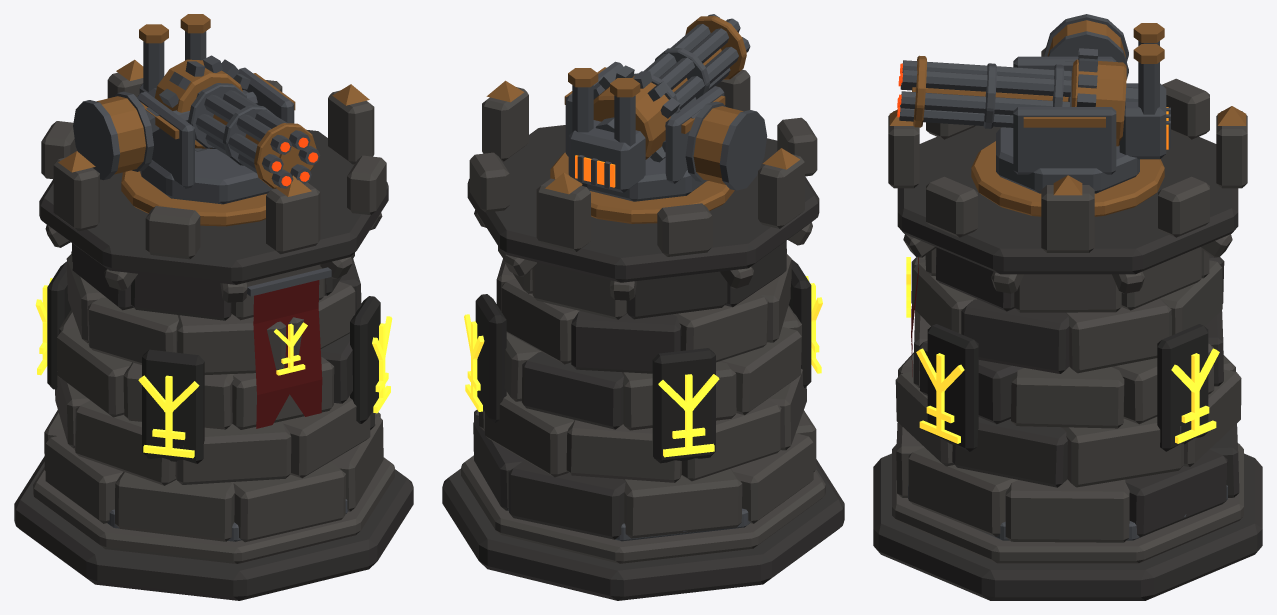
Rendered from cannon_tower_rapid.glb.
The picture shows the model from 3 angles, left to right: view 1: azimuth 30°, elevation 25°; view 2: azimuth 150°, elevation 25°; view 3: azimuth 270°, elevation 25°; orthographic projection. The views are drawn at different scales.
Parts seen in each view (by area): view 1: Plinth, Platform, Plinth_Step, Banner, Block_0_5, Block_0_6, Block_1_5, RuneStone_3, Block_3_5, Block_1_4, Block_3_4, Block_1_6 (+40 smaller); view 2: Platform, Plinth, Plinth_Step, Block_0_2, Block_0_3, Block_3_2, Block_2_2, RuneStone_2, Block_1_2, Block_3_3, Block_1_1, Block_1_3 (+38 smaller); view 3: Platform, Plinth, Plinth_Step, Block_0_0, Block_2_0, Block_3_7, Block_1_0, Cheek_R, Block_0_7, Block_3_0, Block_1_7, Block_0_1 (+45 smaller).
Part boxes in pixels (x1,y1,x2,y2): Plinth: (14,456,413,600); Platform: (39,129,388,284); Plinth_Step: (33,457,394,563); Banner: (253,280,322,428); Block_0_5: (115,472,234,541); Block_0_6: (233,461,345,542); Block_1_5: (175,421,291,484); RuneStone_3: (142,349,204,463); Block_3_5: (176,314,285,374); Block_1_4: (74,400,176,485); Block_3_4: (88,297,178,364); Block_1_6: (282,396,370,478); Platform: (467,125,819,282); Plinth: (442,459,844,600); Plinth_Step: (461,455,825,563); Block_0_2: (508,460,625,539); Block_0_3: (624,468,742,538); Block_3_2: (571,311,681,373); Block_2_2: (522,352,623,429); RuneStone_2: (652,348,715,463); Block_1_2: (566,420,681,482); Block_3_3: (673,292,768,362); Block_1_1: (485,392,574,477); Block_1_3: (681,399,781,481); Platform: (897,125,1238,274); Plinth: (873,453,1262,600); Plinth_Step: (892,443,1243,563); Block_0_0: (1005,479,1129,542); Block_2_0: (1011,366,1124,428); Block_3_7: (961,299,1069,373); Block_1_0: (1062,417,1183,487); Cheek_R: (1013,107,1116,174); Block_0_7: (908,447,1017,536); Block_3_0: (1065,298,1171,373); Block_1_7: (952,417,1067,487); Block_0_1: (1125,449,1227,537).
Size of the model in its own units: 2.49 by 3.41 by 2.49.
